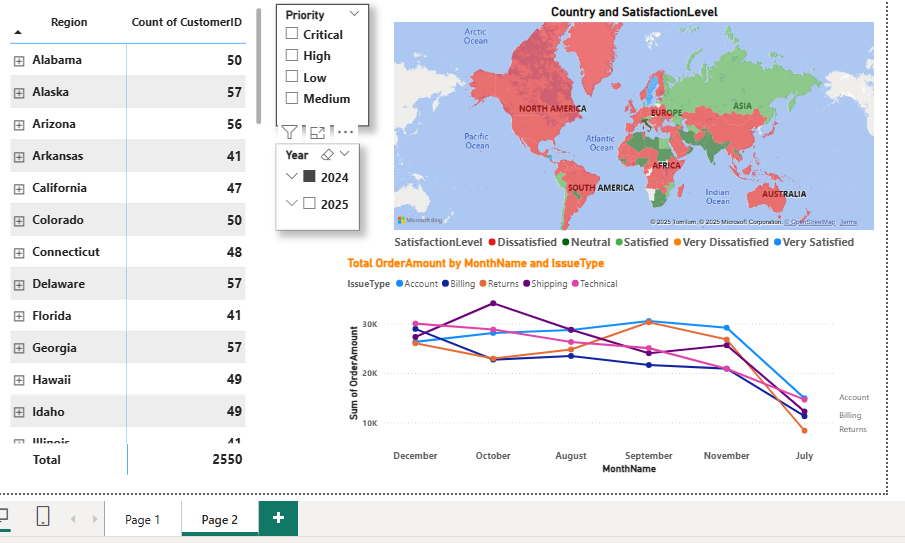

Layout of this report page (visuals, bound fields, positions):
{"tool":"powerbi","page":{"name":"Page 2","canvas":[1280,720],"ordinal":1},"visuals":[{"type":"pivotTable","fields":{"Rows":["DimCustomer.Region","DimCustomer.Country"],"Values":["Count(DimCustomer.CustomerID)"]},"box":[13,15.8,371.5,682.6],"z":0},{"type":"slicer","fields":{"Values":["DimPriority.Priority"]},"box":[400.3,15.8,133.9,175.7],"z":1000},{"type":"filledMap","fields":{"Category":["DimCustomer.Country"],"Series":["DimSatisfaction.SatisfactionLevel"]},"box":[565.9,15.8,701.3,362.9],"z":1001},{"type":"slicer","fields":{"Values":["DimDate.Year","DimDate.MonthName"]},"box":[400.3,217.4,119.5,123.8],"z":1002},{"type":"lineChart","title":"Total OrderAmount by MonthName and IssueType","fields":{"Category":["DimDate.MonthName"],"Y":["Sum(FactCustomerInteraction.OrderAmount)"],"Series":["DimIssueType.IssueType"]},"box":[498.2,378.7,769,319.7],"z":1003}]}

Visuals, with their boxes on the page's 1280x720 design canvas (x1, y1, x2, y2). These are canvas units, not pixel positions in the 905x543 screenshot, which may show the page scaled, cropped or inside an application window:
pivotTable - DimCustomer.Region x DimCustomer.Country: (left=13, top=16, right=384, bottom=698)
slicer - DimPriority.Priority: (left=400, top=16, right=534, bottom=192)
filledMap - DimCustomer.Country x DimSatisfaction.SatisfactionLevel: (left=566, top=16, right=1267, bottom=379)
slicer - DimDate.Year x DimDate.MonthName: (left=400, top=217, right=520, bottom=341)
"Total OrderAmount by MonthName and IssueType" lineChart: (left=498, top=379, right=1267, bottom=698)
